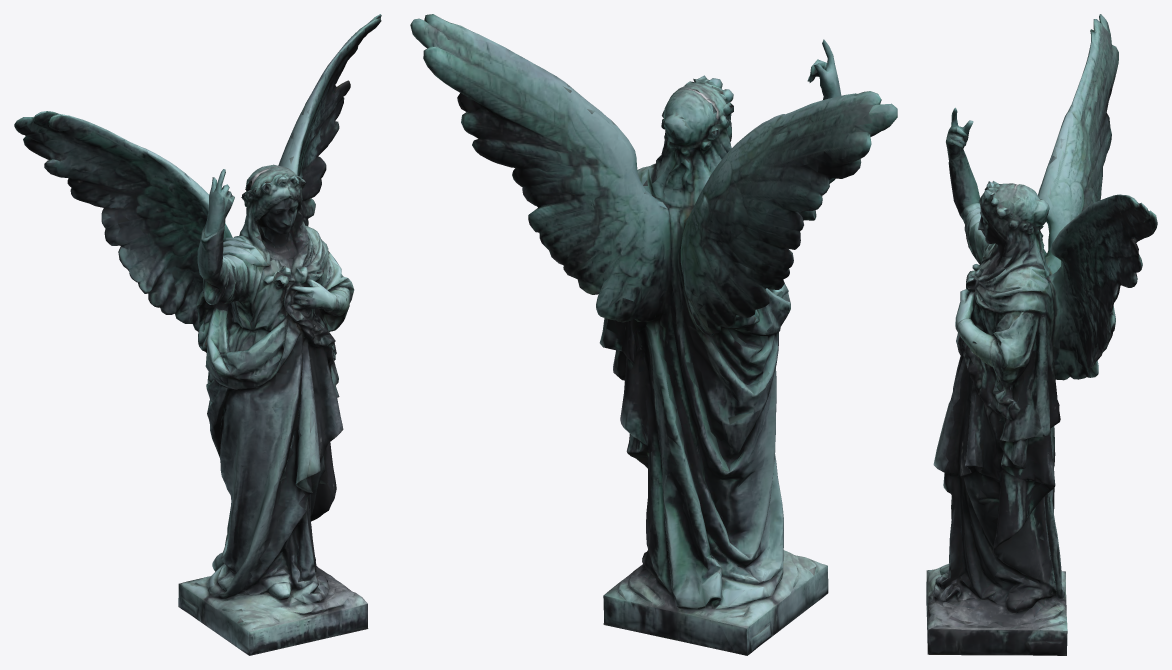
The model's file is engel1.gltf.
3 views of the same model, side by side, from view 1: azimuth 30°, elevation 25°; view 2: azimuth 150°, elevation 25°; view 3: azimuth 270°, elevation 25° (orthographic). The views are drawn at different scales.
Visible parts, largest first — view 1: Engel_C; view 2: Engel_C; view 3: Engel_C.
Boxes of the visible parts, box(x1,y1,x2,y2) form: Engel_C: box(14, 14, 381, 655); Engel_C: box(410, 14, 897, 655); Engel_C: box(926, 14, 1157, 655).
Bounding box in the file's own units: 6.77 × 8.61 × 3.48.
Materials: 1 (1 with a texture image).
